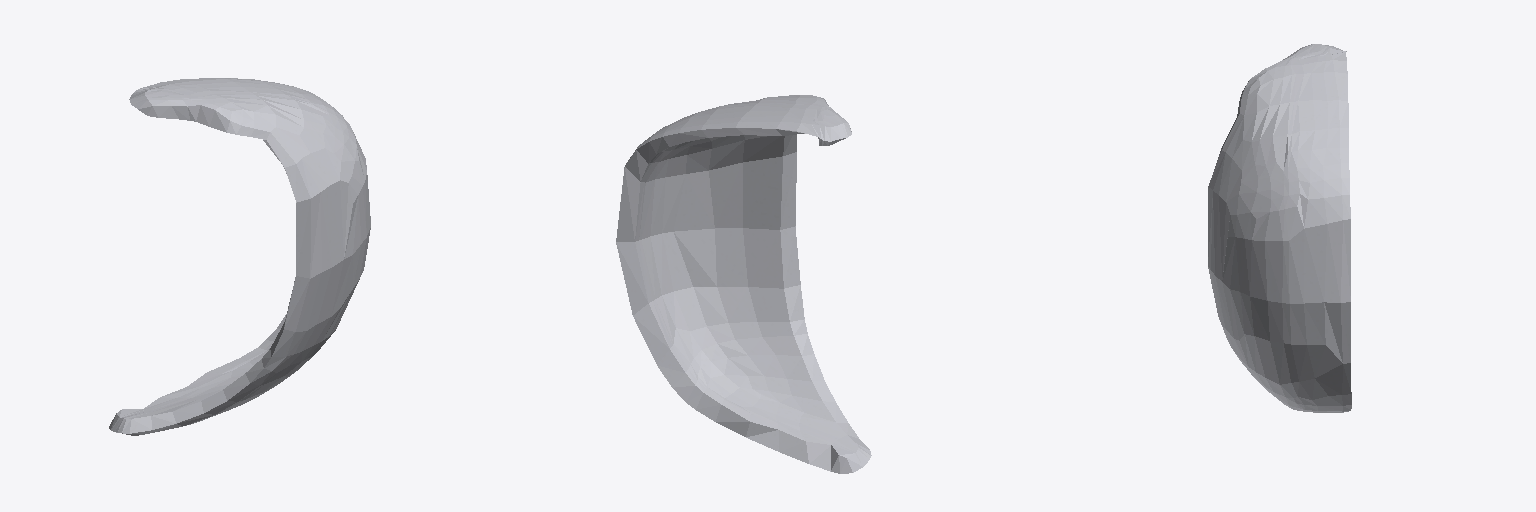
The picture shows the model from 3 angles: view 1: azimuth 30°, elevation 25°; view 2: azimuth 150°, elevation 25°; view 3: azimuth 270°, elevation 25°; orthographic projection.
Parts seen in each view (by area): view 1: R_TOE_P-460-FACES; view 2: R_TOE_P-460-FACES; view 3: R_TOE_P-460-FACES.
Boxes of the visible parts, box(x1,y1,x2,y2) form: R_TOE_P-460-FACES: box(109, 78, 370, 435); R_TOE_P-460-FACES: box(616, 95, 871, 473); R_TOE_P-460-FACES: box(1208, 44, 1351, 412).
Bounding box in the file's own units: 0.0871 × 0.1163 × 0.0451.
1 materials, 1 textured.